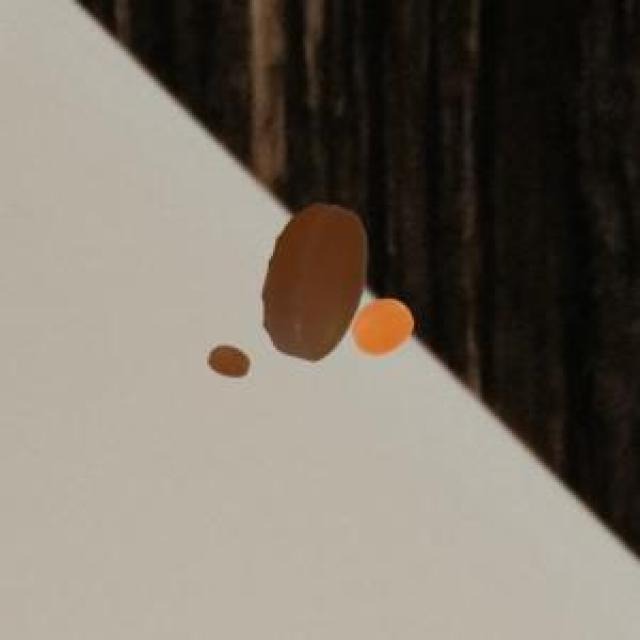Bactidol: (263, 190, 419, 384), (201, 335, 256, 388)
